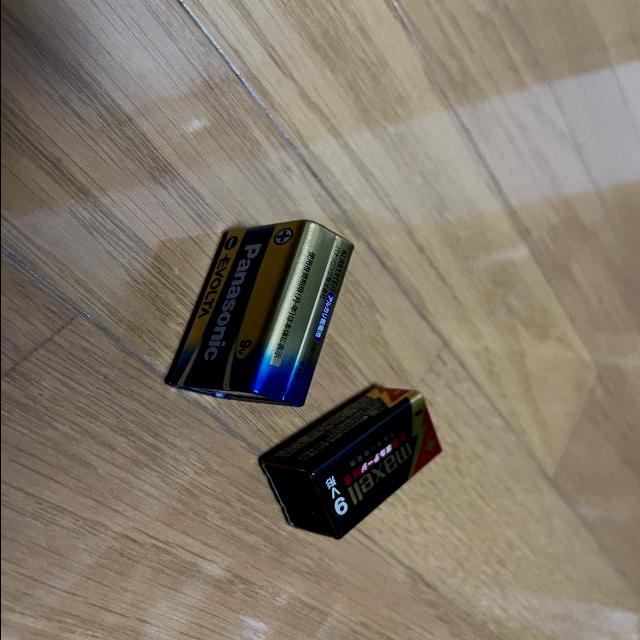9V: (166, 219, 353, 407), (259, 385, 443, 543)
